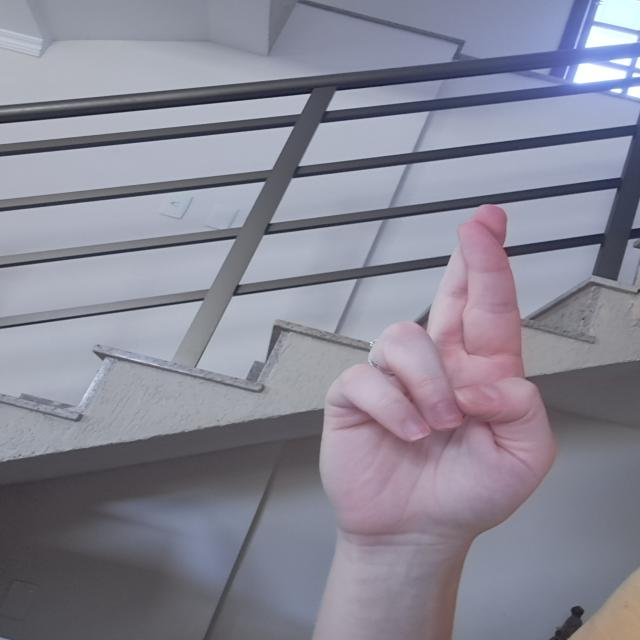R: (314, 192, 572, 565)
